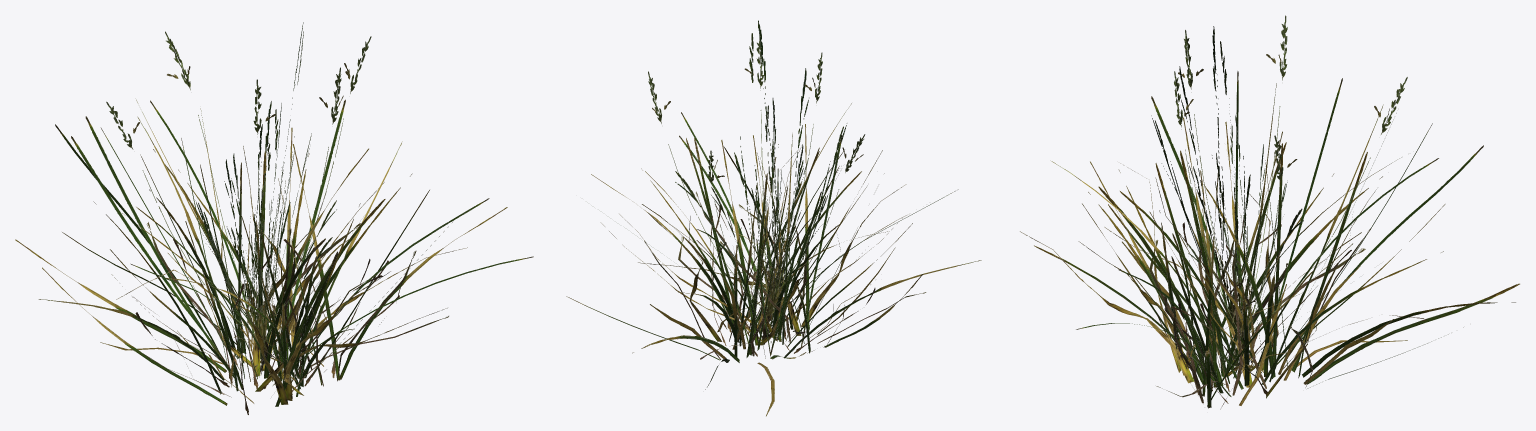
File: GrassClumpHighDetail.fbx
The picture shows the model from 3 angles, left to right: view 1: azimuth 30°, elevation 25°; view 2: azimuth 150°, elevation 25°; view 3: azimuth 270°, elevation 25°; orthographic projection. The views are drawn at different scales.
Parts seen in each view (by area): view 1: _idqg_VarA_LOD1; view 2: _idqg_VarA_LOD1; view 3: _idqg_VarA_LOD1.
Part boxes in pixels (<box>): _idqg_VarA_LOD1: <box>15,22,533,414</box>; _idqg_VarA_LOD1: <box>566,20,981,416</box>; _idqg_VarA_LOD1: <box>1020,15,1519,409</box>.
Size of the model in its own units: 53.09 by 40.88 by 49.02.
